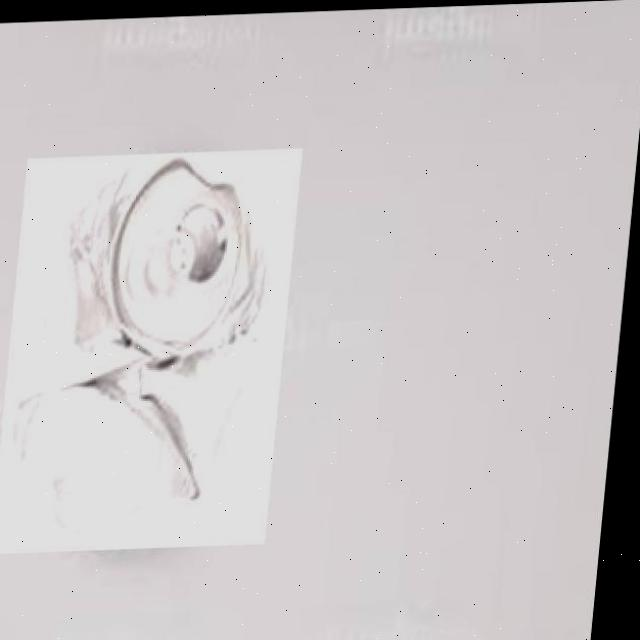trash: (1, 146, 306, 550)
